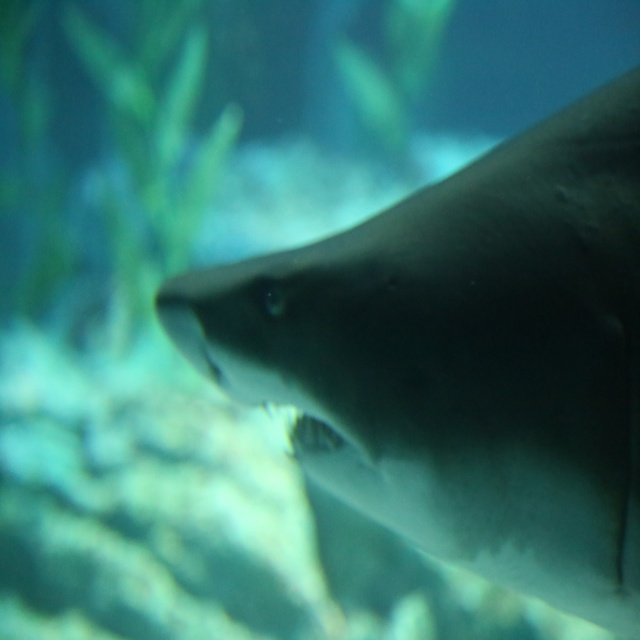Shark: (150, 66, 640, 638)
